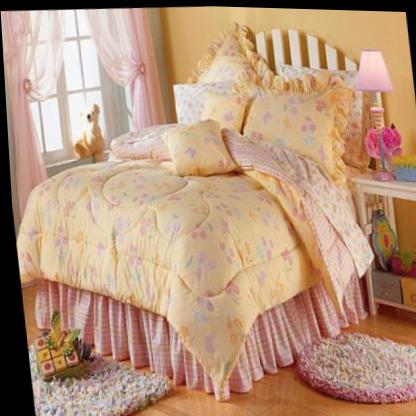Bed: (2, 18, 390, 390)
Table: (351, 166, 416, 334)
